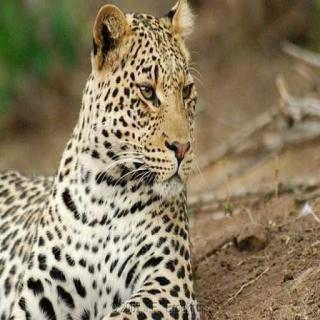Leopard: (10, 10, 255, 320)
